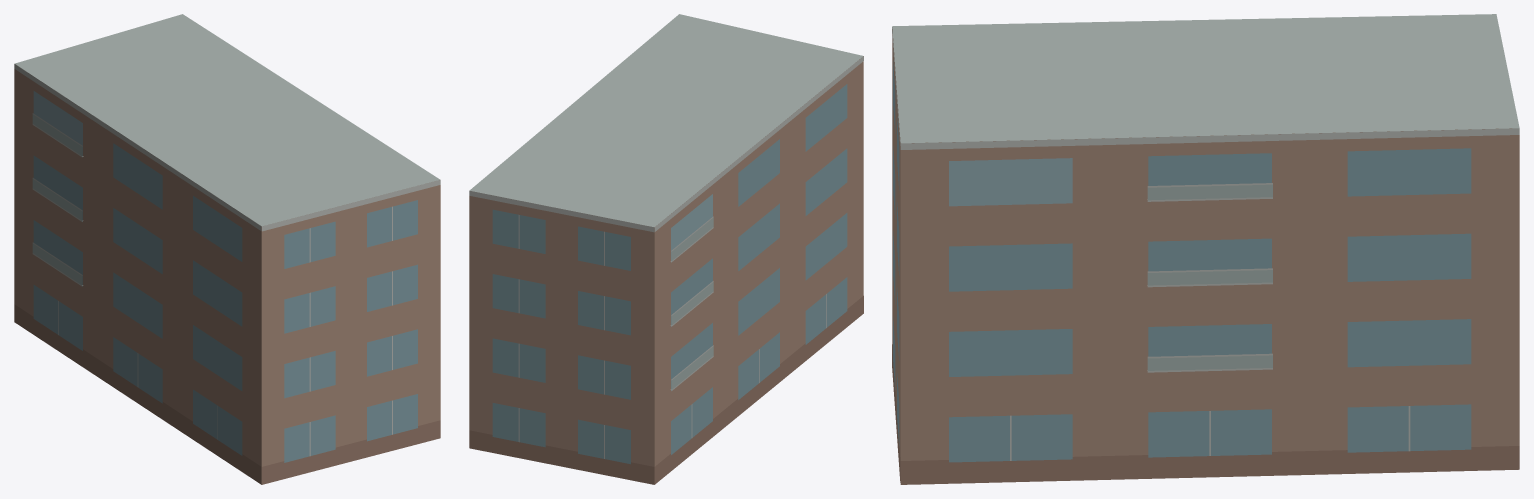
Rendered from survey-upis-32767987.glb.
3 views of the same model, side by side, from view 1: azimuth 30°, elevation 25°; view 2: azimuth 150°, elevation 25°; view 3: azimuth 270°, elevation 25° (orthographic). The views are drawn at different scales.
Visible parts, largest first — view 1: survey-upis-32767987.tmp; view 2: survey-upis-32767987.tmp; view 3: survey-upis-32767987.tmp.
Boxes of the visible parts, x1,y1,x2,y2 form: survey-upis-32767987.tmp: (14,14,440,484); survey-upis-32767987.tmp: (469,14,863,484); survey-upis-32767987.tmp: (892,14,1519,484).
Bounding box in the file's own units: 10.09 × 12.4 × 20.66.
